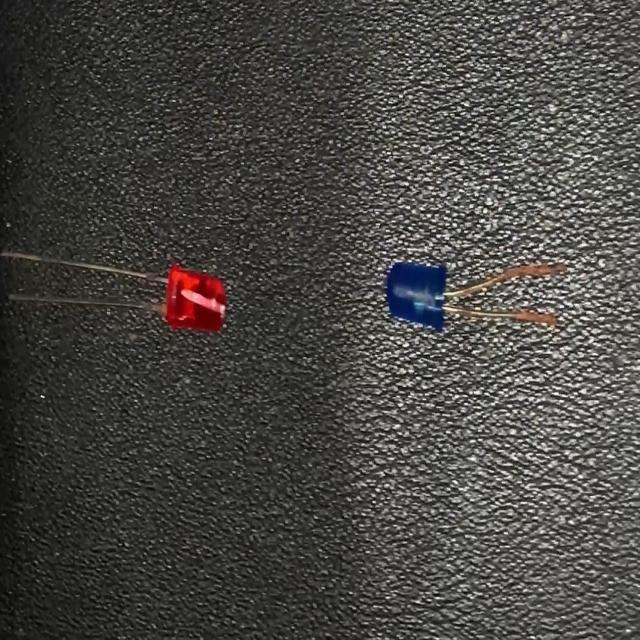LED: (0, 245, 228, 339), (383, 255, 571, 333)
rust: (501, 260, 567, 280), (512, 307, 559, 326)
